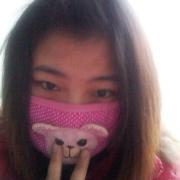OK: (21, 56, 131, 166)
